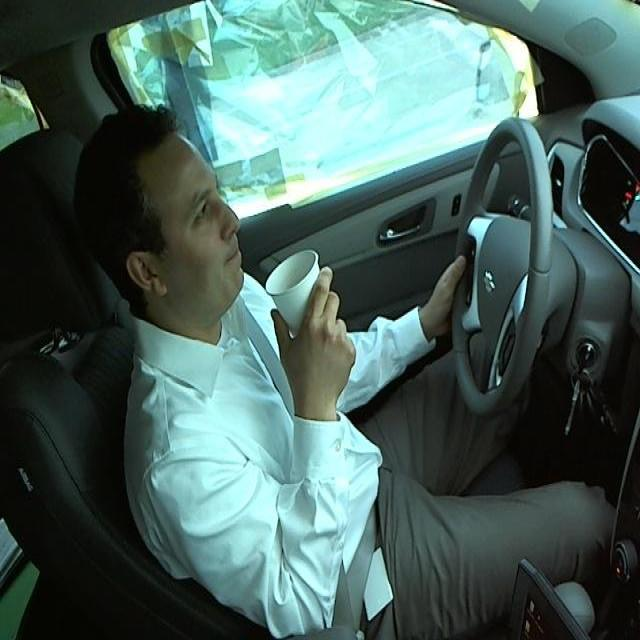Seatbelt: (265, 252, 334, 349)
